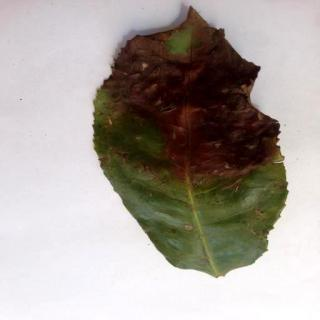Algal Leaf: (97, 8, 290, 281)
